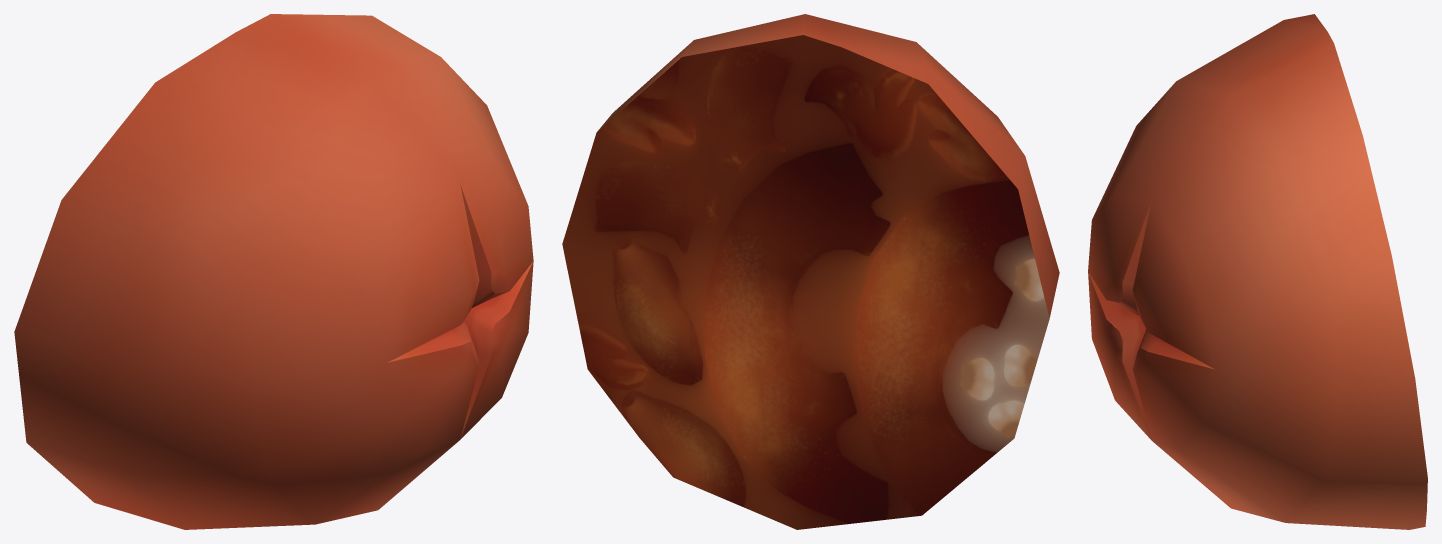
File: Sausage01.fbx
The picture shows the model from 3 angles, left to right: view 1: azimuth 30°, elevation 25°; view 2: azimuth 150°, elevation 25°; view 3: azimuth 270°, elevation 25°; orthographic projection. The views are drawn at different scales.
Visible parts, largest first — view 1: Sausage01; view 2: Sausage01; view 3: Sausage01.
Part boxes in pixels (x1,y1,x2,y2): Sausage01: [14, 14, 533, 529]; Sausage01: [562, 14, 1059, 529]; Sausage01: [1088, 14, 1427, 529].
Bounding box in the file's own units: 0.1238 × 0.1192 × 0.0777.
